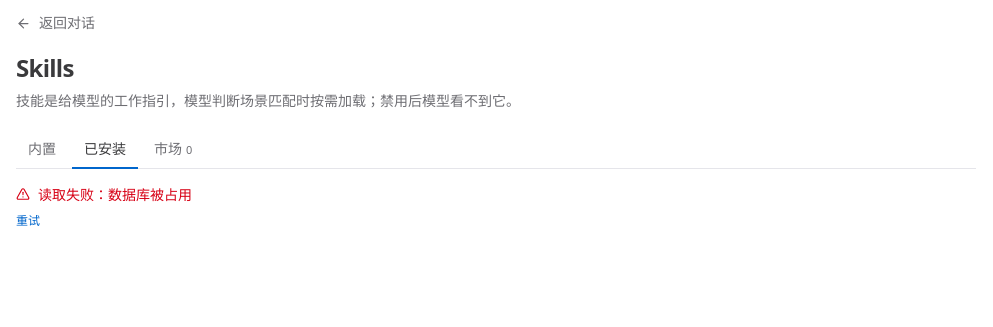
Test: SkillsPage › 读取失败给出原因与重试
Check: the text "读取失败：数据库被占用" is shown, box left=38, top=185, right=192, bottom=205
Click the button "重试" at x=28, y=221, box left=16, top=213, right=40, bottom=229
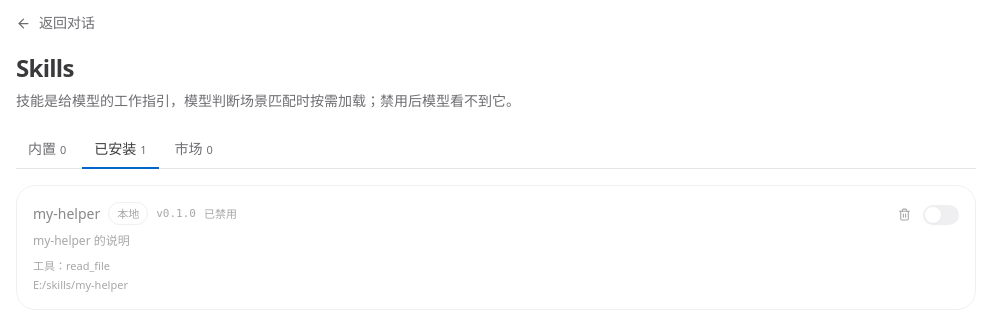
Check: the text "my-helper" is shown, box left=33, top=204, right=100, bottom=224
